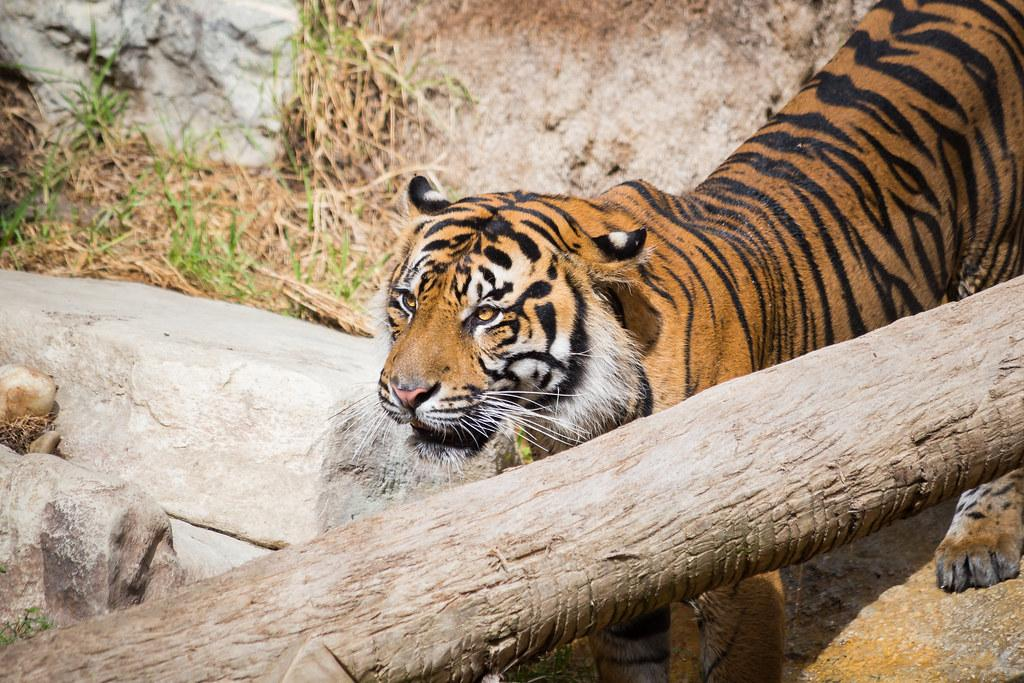tiger: (316, 1, 1023, 682)
